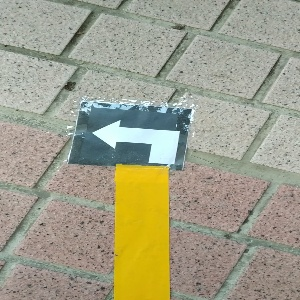left: (64, 101, 192, 167)
